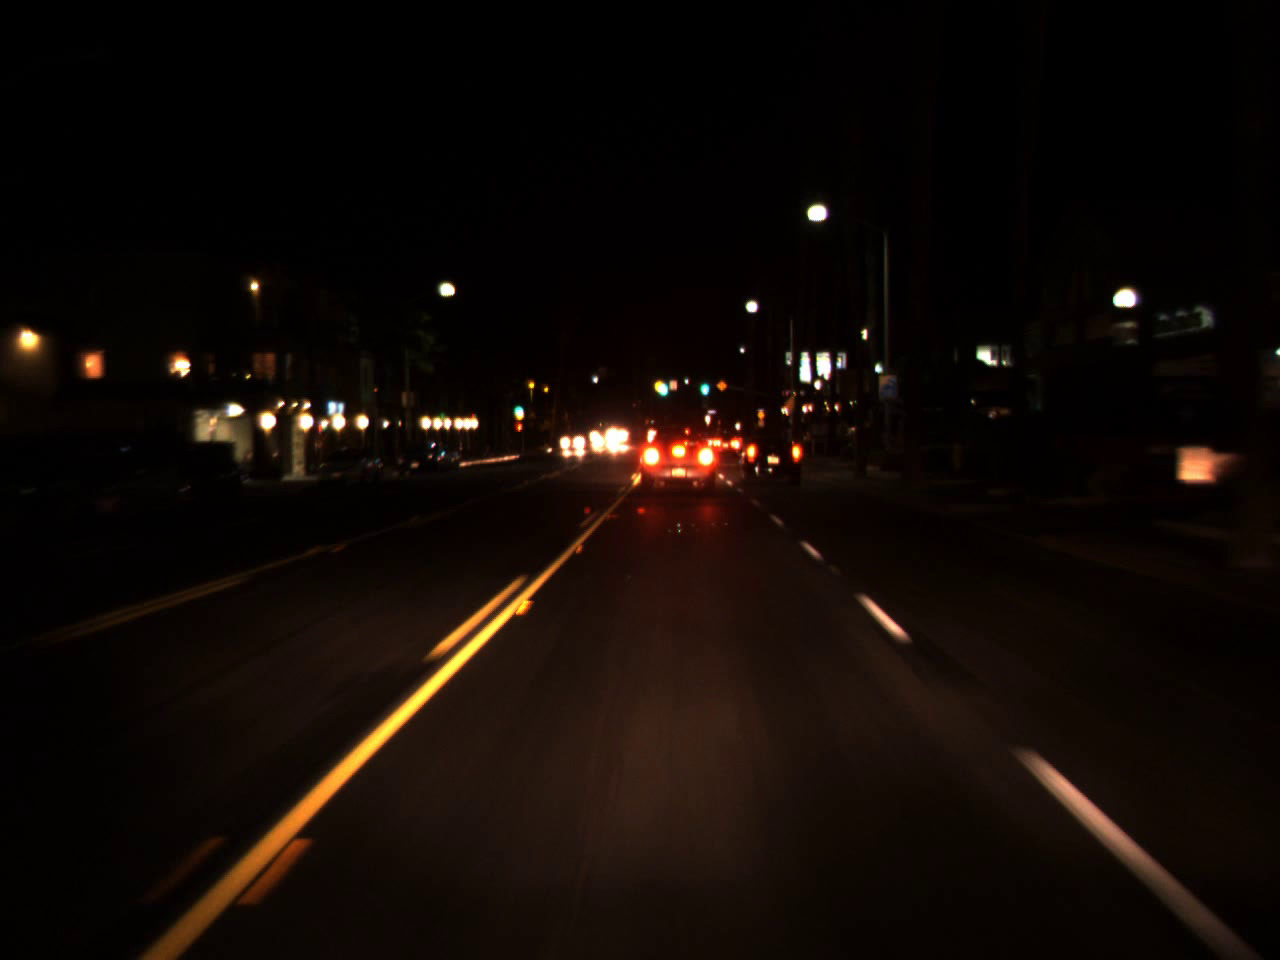go: (653, 369, 669, 399), (696, 371, 708, 398), (513, 400, 523, 412)
